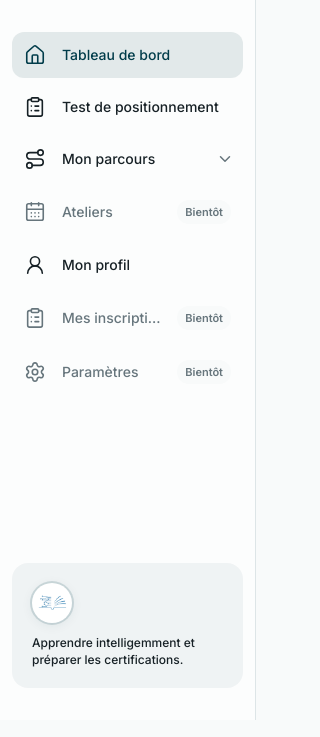
Test case: Barre latérale — modules du parcours › garde le sous-menu replié hors du parcours, et le développe à la demande
Click the button named "Développer les modules": [225, 159] box [207,137,243,181]
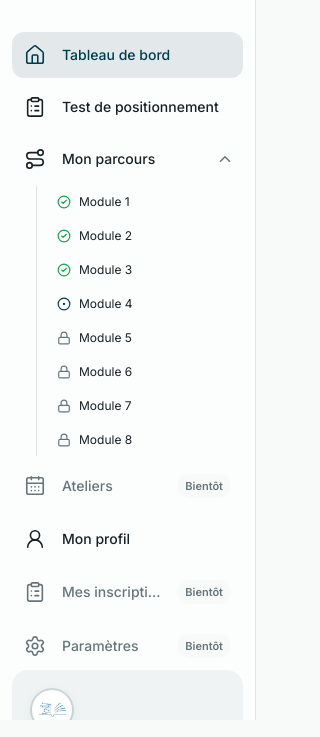
expect the list named "Modules du parcours" is shown: met, box [36,186,243,456]
